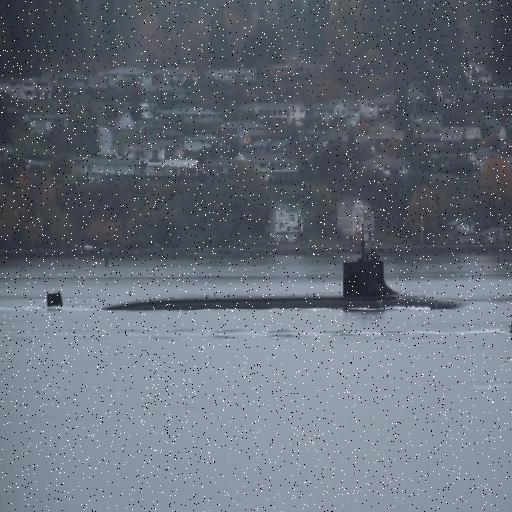submarine: (43, 246, 462, 328)
